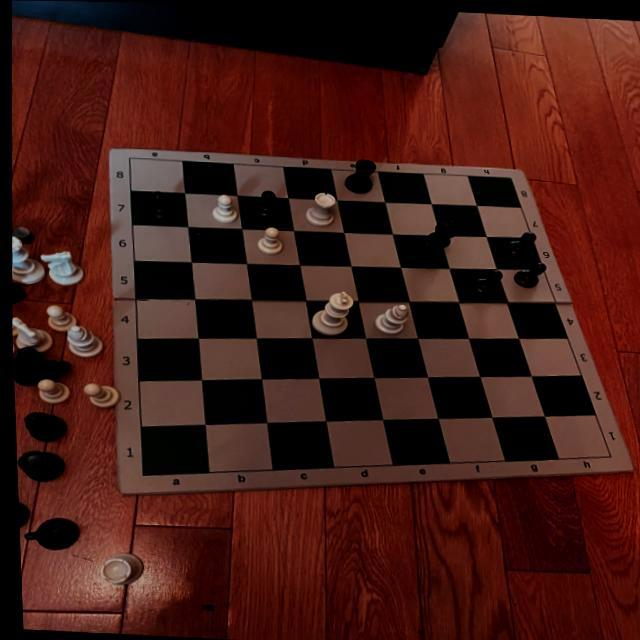chess-table-corners: (132, 468, 152, 480), (503, 173, 519, 183), (598, 450, 612, 460), (123, 154, 137, 164)
